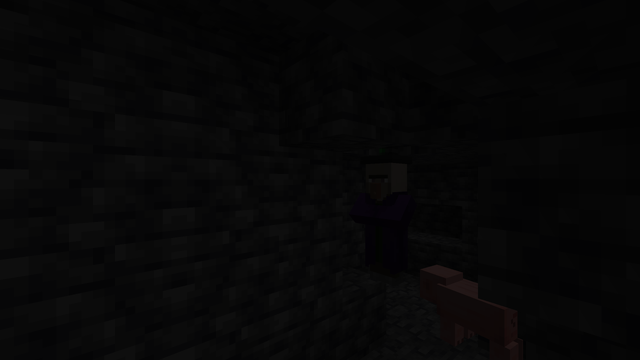cochons: (436, 274, 517, 358)
sorcieres: (359, 157, 412, 290)
